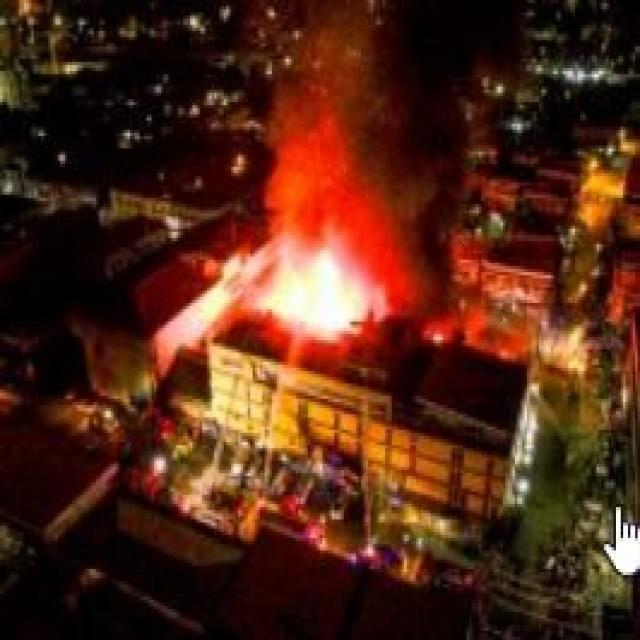Fire: (264, 109, 394, 268), (262, 252, 370, 340)
Smoke: (362, 14, 478, 196)
